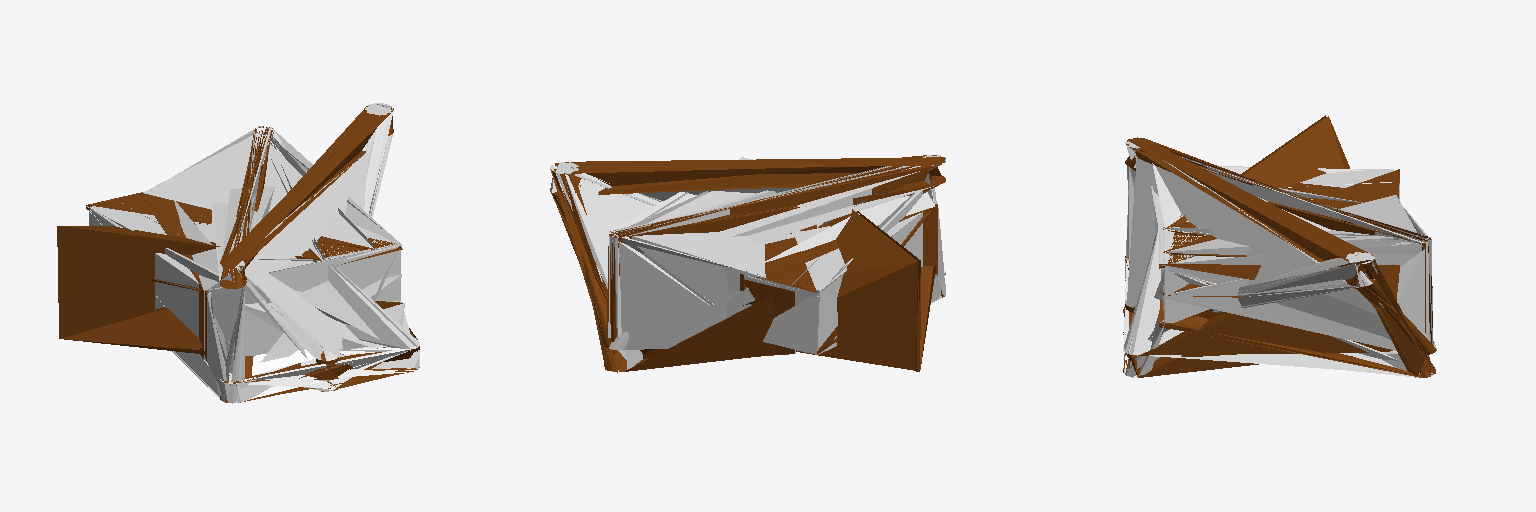
Rendered from Bank.obj.
The picture shows the model from 3 angles: view 1: azimuth 30°, elevation 25°; view 2: azimuth 150°, elevation 25°; view 3: azimuth 270°, elevation 25°; orthographic projection.
Parts seen in each view (by area): view 1: Text002, Sphere002, Box057; view 2: Sphere002, Text002, Box057; view 3: Text002, Sphere002, Box057.
Boxes of the visible parts, x1=… form: Text002: x1=87, y1=103, x2=419, y2=403; Sphere002: x1=57, y1=104, x2=419, y2=402; Box057: x1=220, y1=127, x2=419, y2=402; Sphere002: x1=550, y1=155, x2=945, y2=372; Text002: x1=550, y1=155, x2=945, y2=371; Box057: x1=611, y1=230, x2=945, y2=341; Text002: x1=1123, y1=141, x2=1436, y2=377; Sphere002: x1=1123, y1=115, x2=1436, y2=377; Box057: x1=1123, y1=236, x2=1433, y2=377.
Bounding box in the file's own units: 37369 × 15738 × 28824.